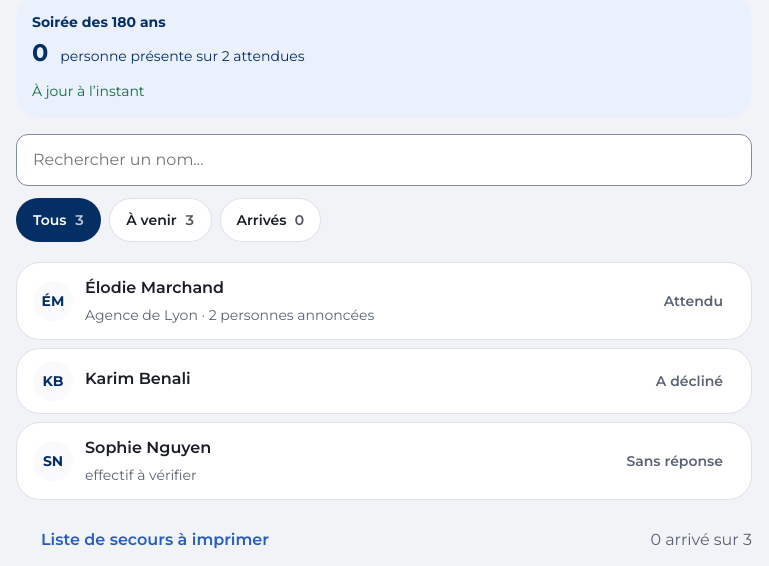
Test case: poste d’accueil › filtre sans recharger, et les puces disent leur effectif
Click the button "Arrivés 0". click: x=270, y=220
box: top-left (220, 198), bottom-right (321, 242)
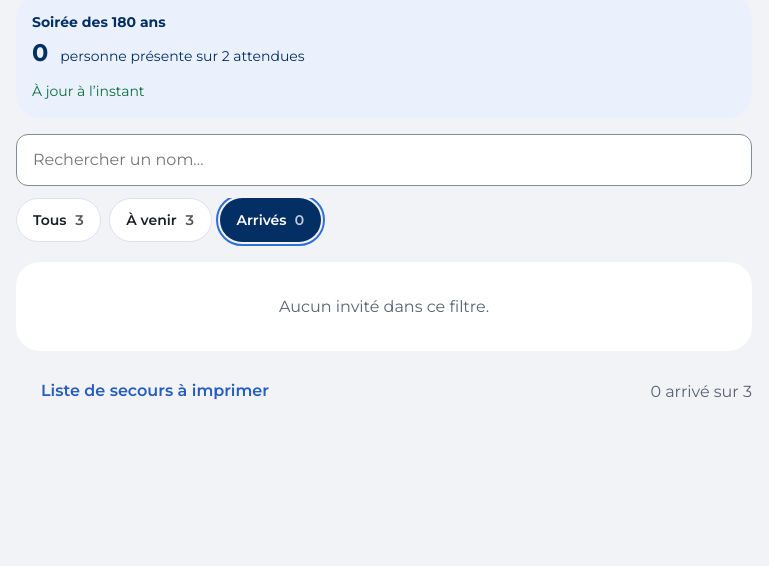
Result: the text "Aucun invité dans ce filtre." is shown at top-left (16, 262), bottom-right (752, 351)
